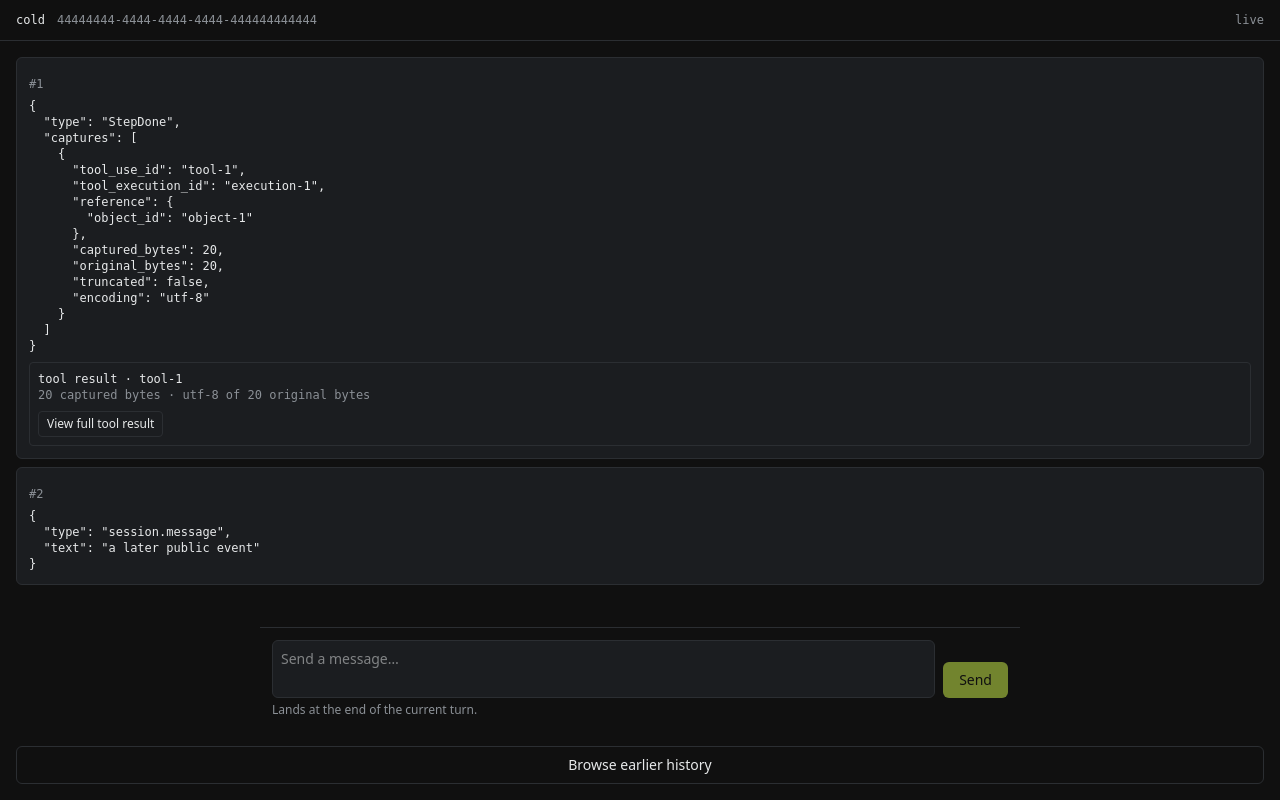
Scenario: a deleted retained object fails locally while the surrounding transcript stays rendered
The image size is (1280, 800).
Check: the element with test id "tool-capture-viewer" is shown, box [29, 362, 1251, 446]
Click the button with test id "tool-capture-load" at (101, 424), box [38, 411, 163, 437]
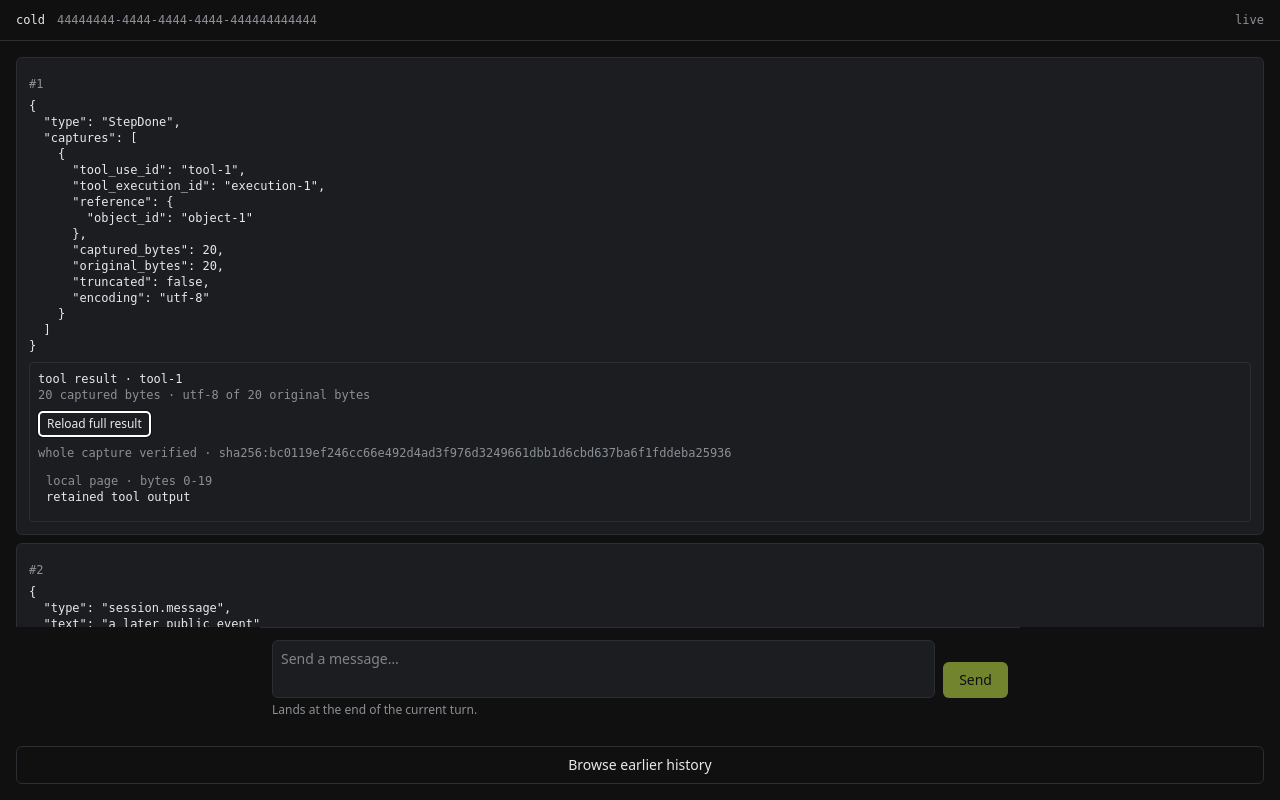
Check: the element with test id "tool-capture-output" shows "retained tool output", box [46, 490, 190, 504]
Click the button with test id "tool-capture-load" at (94, 424), box [38, 411, 151, 437]
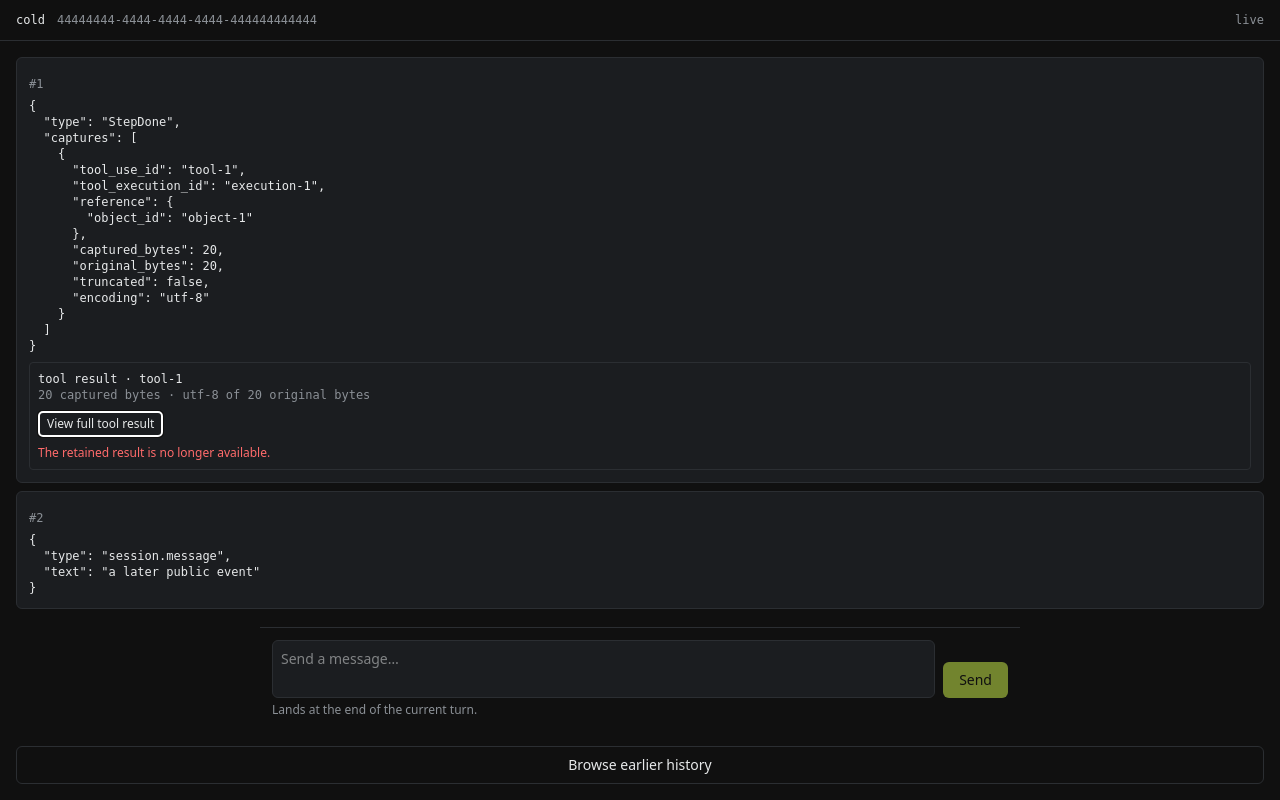
Check: the element with test id "factory-event-2" shows "a later public event", box [29, 533, 260, 595]
Check: the message with test id "tool-capture-error" reads "The retained result is no longer available.", box [38, 444, 270, 461]
Check: the element with test id "tool-capture-output" is gone
